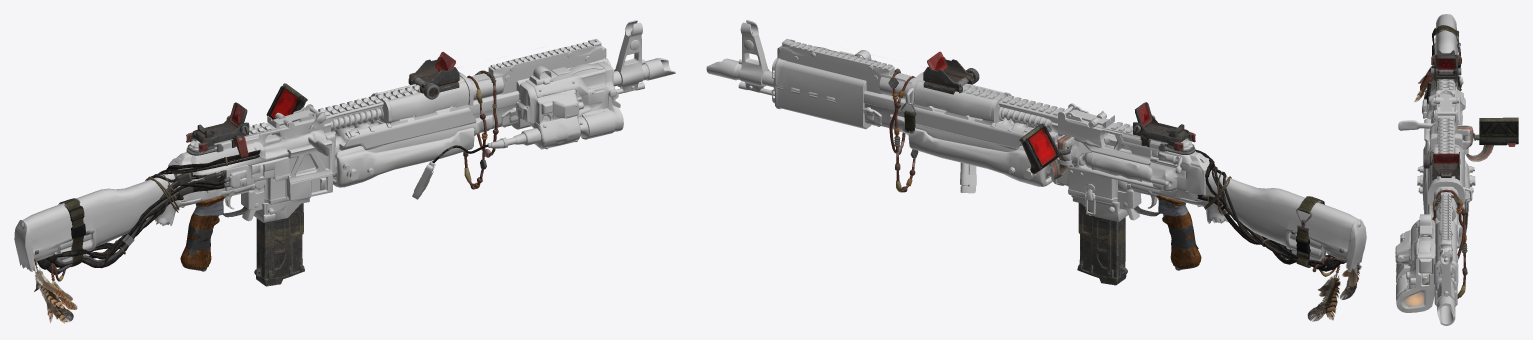
The picture shows the model from 3 angles, left to right: view 1: azimuth 30°, elevation 25°; view 2: azimuth 150°, elevation 25°; view 3: azimuth 270°, elevation 25°; orthographic projection. The views are drawn at different scales.
Visible parts, largest first — view 1: Plane.001, Cube.000, Cube.004, qwqd, Cube.003, Cube.006, BezierCurve.084_BezierCurve.038, Plane.000, Cylinder.101, Cube.017, Cube.002, Cube.253_Cube.000 (+5 smaller); view 2: Cube.000, Plane.001, Cube.006, qwqd, Cube.003, Cube.017, Cylinder.101, Plane.000, BezierCurve.084_BezierCurve.038, Cube.018, Cube.002, Cube.253_Cube.000 (+4 smaller); view 3: Cube.004, Cube.000, Plane.001, Cube.006, Cube.017, Cube.018, Cylinder.101, Cube.002, qwqd, Group6960.003, Cylinder.023, Cube.013 (+13 smaller).
Boxes of the visible parts, box(x1,y1,x2,y2) form: Plane.001: box(331, 72, 519, 187); Cube.000: box(168, 86, 419, 222); Cube.004: box(487, 61, 623, 149); qwqd: box(14, 171, 201, 271); Cube.003: box(254, 203, 304, 286); Cube.006: box(468, 39, 610, 129); BezierCurve.084_BezierCurve.038: box(47, 150, 260, 274); Plane.000: box(180, 196, 248, 271); Cylinder.101: box(613, 20, 675, 92); Cube.017: box(192, 57, 459, 147); Cube.002: box(249, 85, 419, 134); Cube.253_Cube.000: box(59, 198, 85, 266); Cube.000: box(962, 85, 1211, 221); Plane.001: box(863, 72, 1052, 186); Cube.006: box(771, 38, 914, 129); qwqd: box(1180, 170, 1366, 272); Cube.003: box(1077, 203, 1127, 285); Cube.017: box(923, 57, 1189, 147); Cylinder.101: box(706, 20, 774, 92); Plane.000: box(1133, 195, 1201, 270); BezierCurve.084_BezierCurve.038: box(1195, 149, 1340, 271); Cube.018: box(1019, 123, 1060, 173); Cube.002: box(962, 85, 1132, 133); Cube.253_Cube.000: box(1296, 196, 1324, 267); Cube.004: box(1395, 219, 1435, 312); Cube.000: box(1398, 79, 1470, 165); Plane.001: box(1422, 144, 1469, 248); Cube.006: box(1434, 186, 1458, 306); Cube.017: box(1432, 50, 1460, 180); Cube.018: box(1479, 117, 1518, 145); Cylinder.101: box(1437, 249, 1455, 325); Cube.002: box(1438, 79, 1453, 156); qwqd: box(1434, 14, 1457, 54); Group6960.003: box(1433, 59, 1458, 163); Cylinder.023: box(1432, 189, 1466, 298); Cube.013: box(1441, 194, 1450, 239).
Bounding box in the file's own units: 1749 × 468 × 299.
